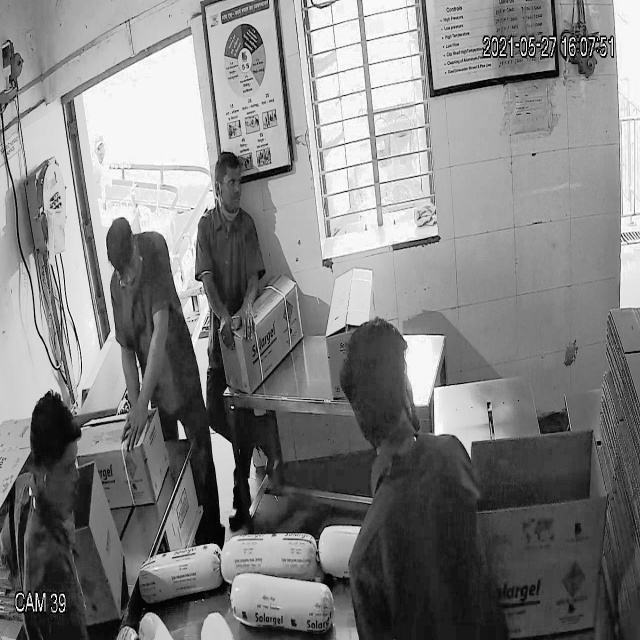Sin_gafas: (209, 171, 246, 196)
